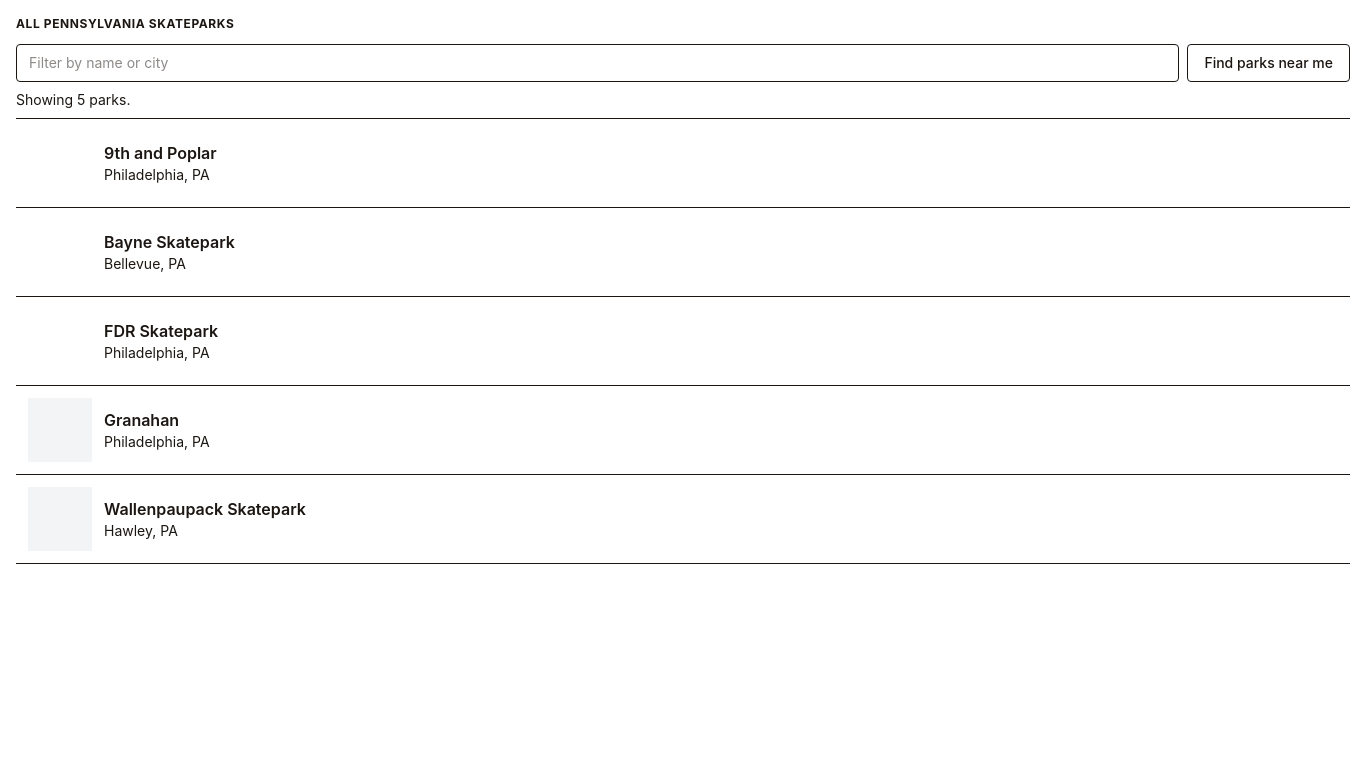
Test case: HomeParkList › filter input › matches alias (locals' nickname)
Type "bellevue skate" into the search field with placeholder "Filter by name or city" at (598, 63), box [16,44,1179,82]
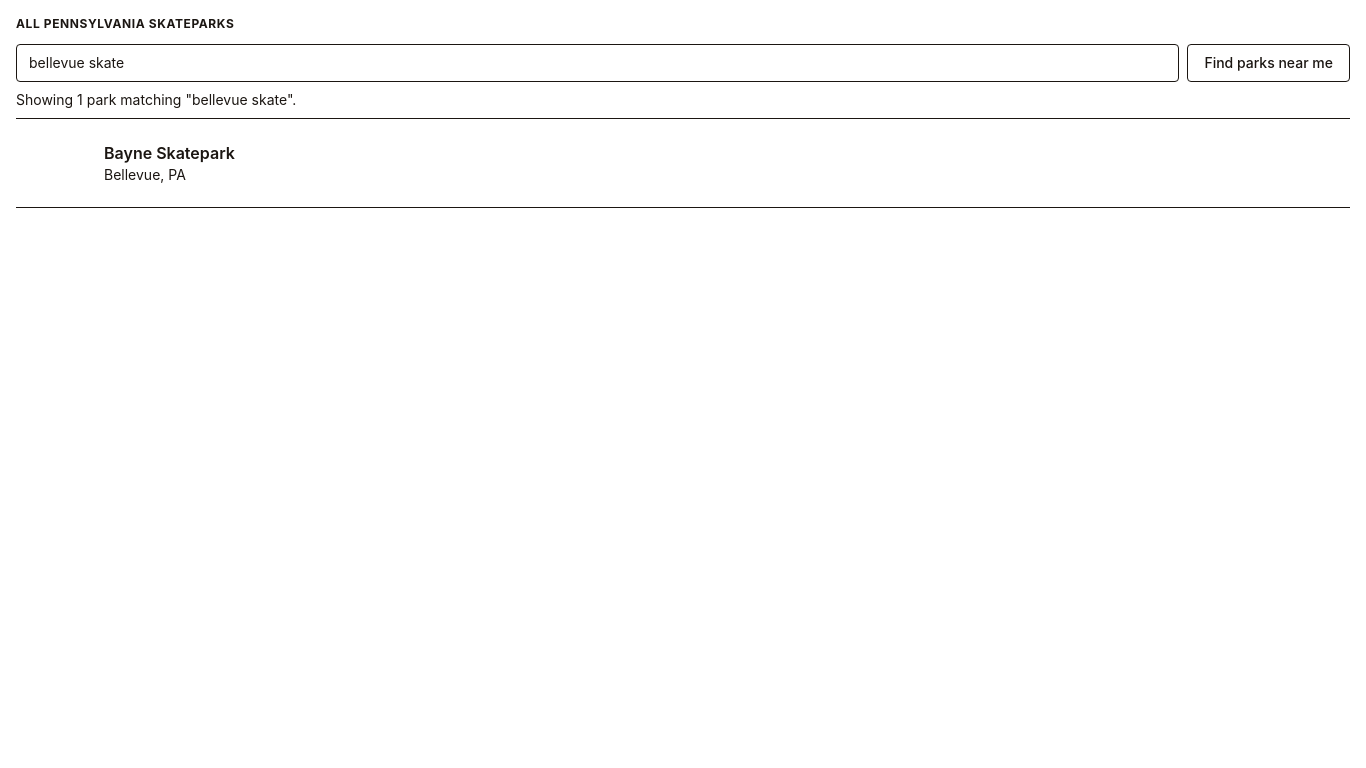
Expected: the list item shows "Bayne Skatepark", [16,119,1350,207]
Now the number of list items is 1, box [28,131,235,195]
